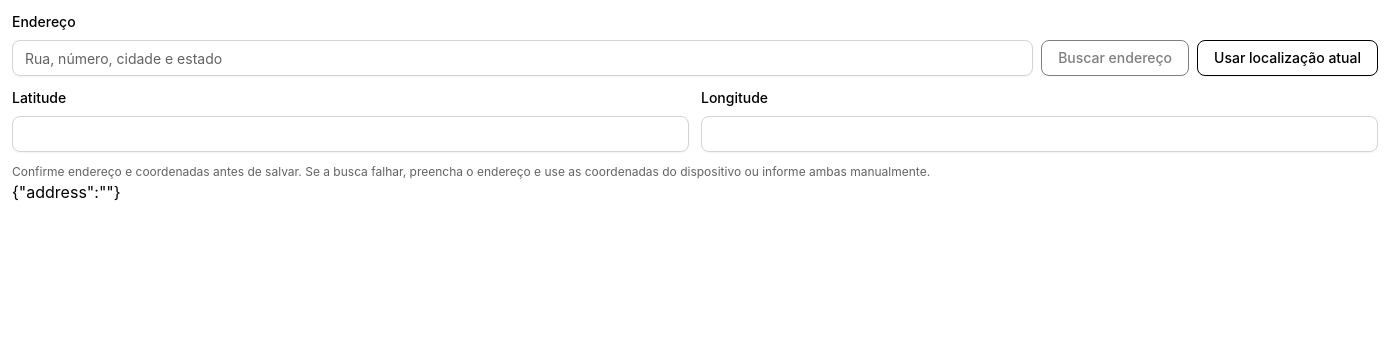
Test: only fills coordinates after an explicit choice, and invalidates them when the chosen address changes
Later steps or results of the test are not shown.
Type "Rua A" into the field labelled "Endereço".
click(523, 58); type("Rua A")  # box [12,40,1033,76]
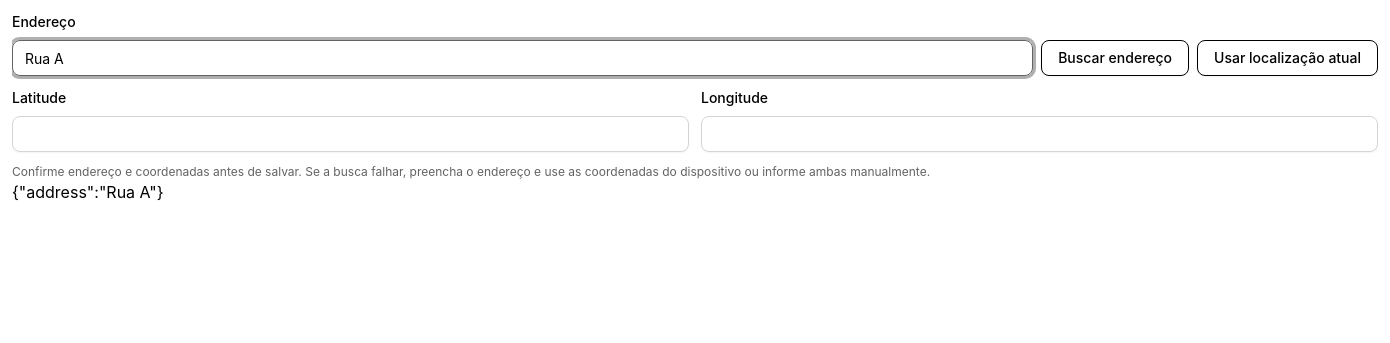
Click the button "Buscar endereço".
click(1115, 58)  # box [1041,40,1189,76]
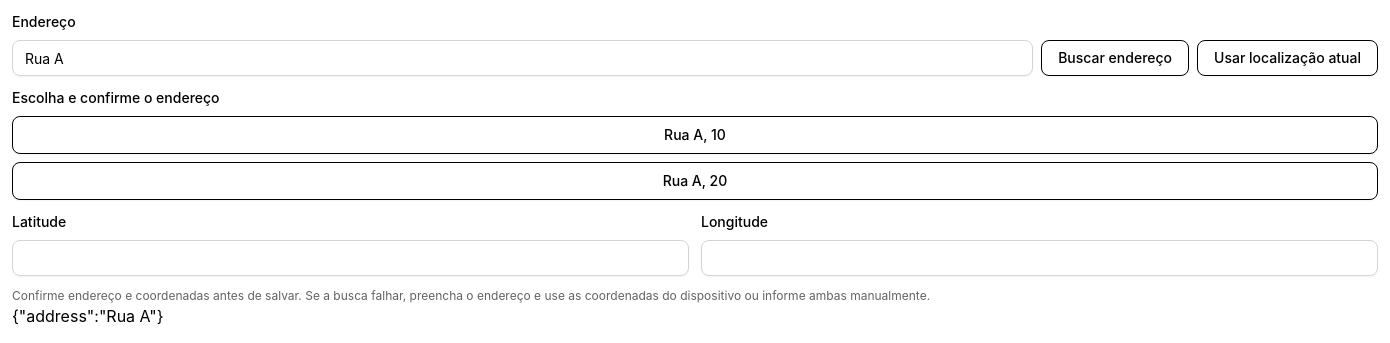
Expected: the text with test id "location" does not show "latitude", [12,306,164,326]
Expected: the button "Rua A, 10" is shown, [12,116,1378,154]
Click the button "Rua A, 20".
click(695, 181)  # box [12,162,1378,200]
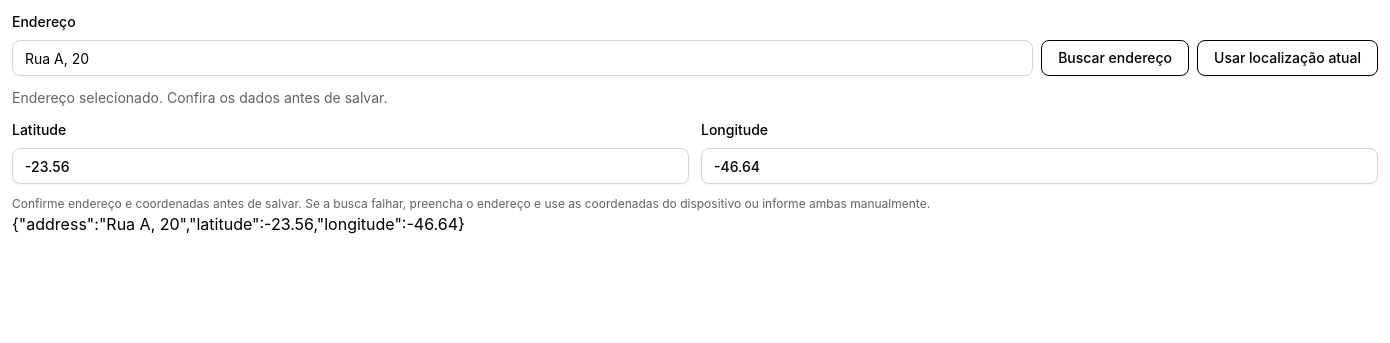
Expected: the text with test id "location" shows "\"latitude\":-23.56", [12,214,465,234]
